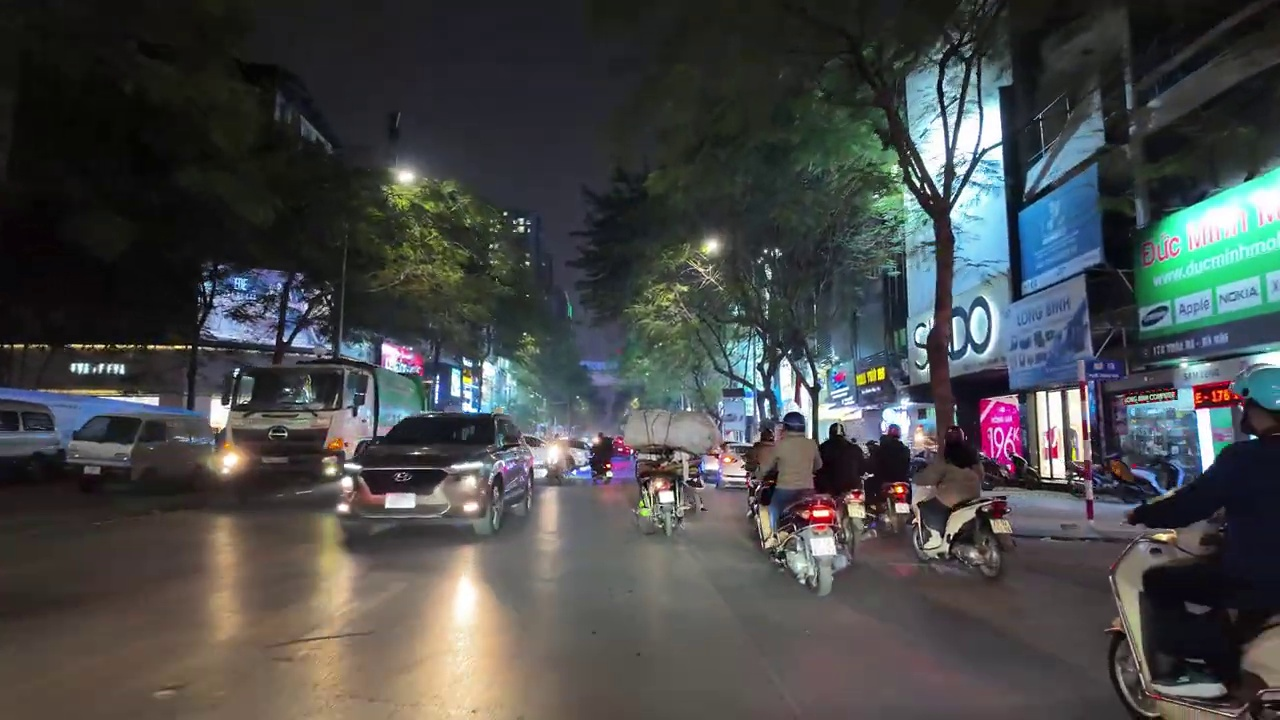acesa: (390, 166, 420, 193), (698, 235, 723, 260)
